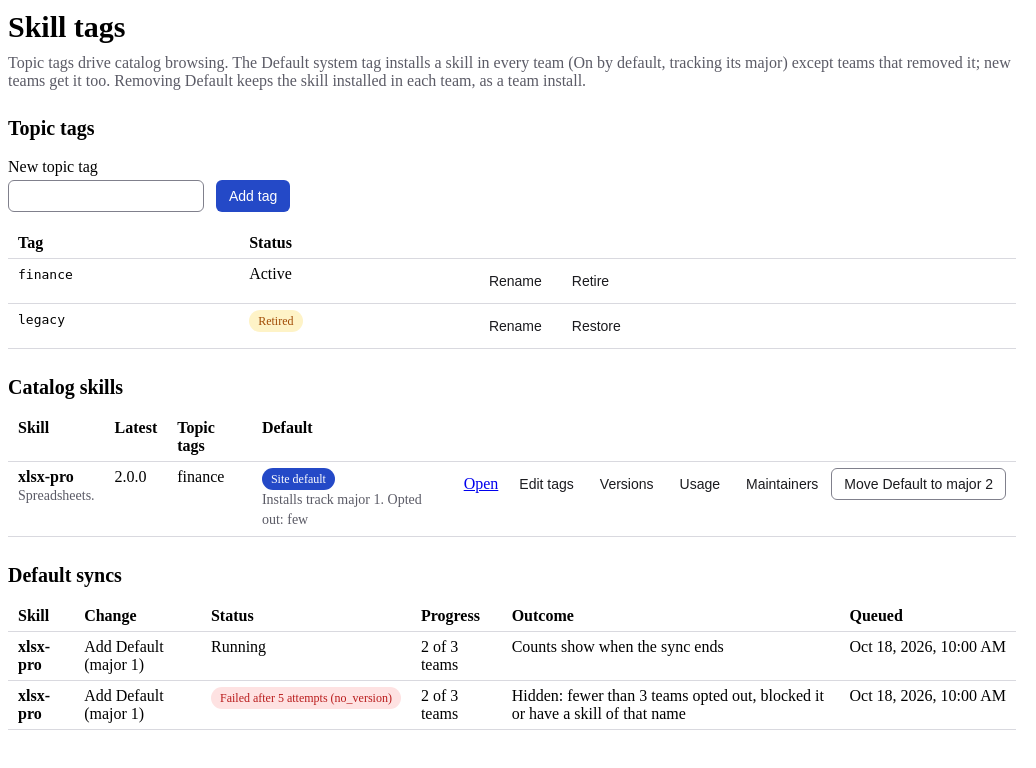
Test: catalog usage in the Site console (KOBE-339) › opens a skill's site-wide usage per version
The width and height of the screenshot is (1036, 768).
Click the button with aria-label "Usage of xlsx-pro" at [700, 484], box x1=666 y1=468 x2=733 y2=500
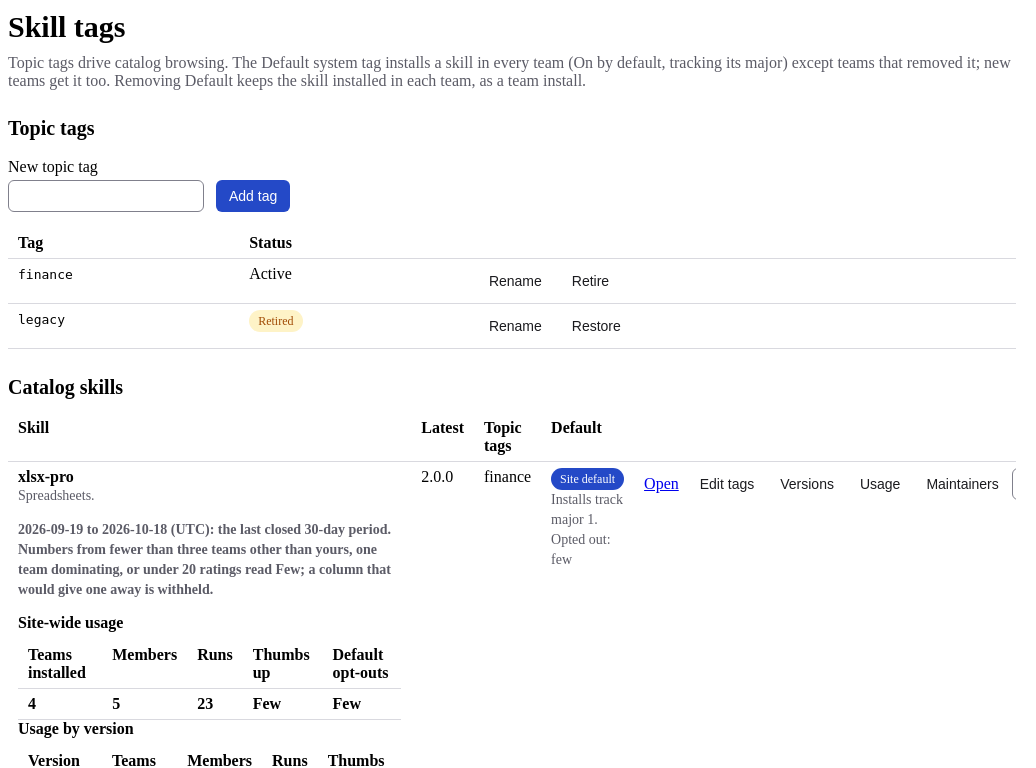
Check: the text "23" is shown, box x1=187 y1=688 x2=243 y2=719
